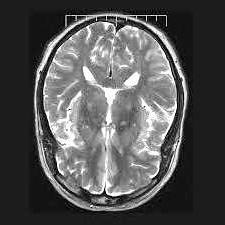Normal_Brain: (21, 8, 214, 225)
